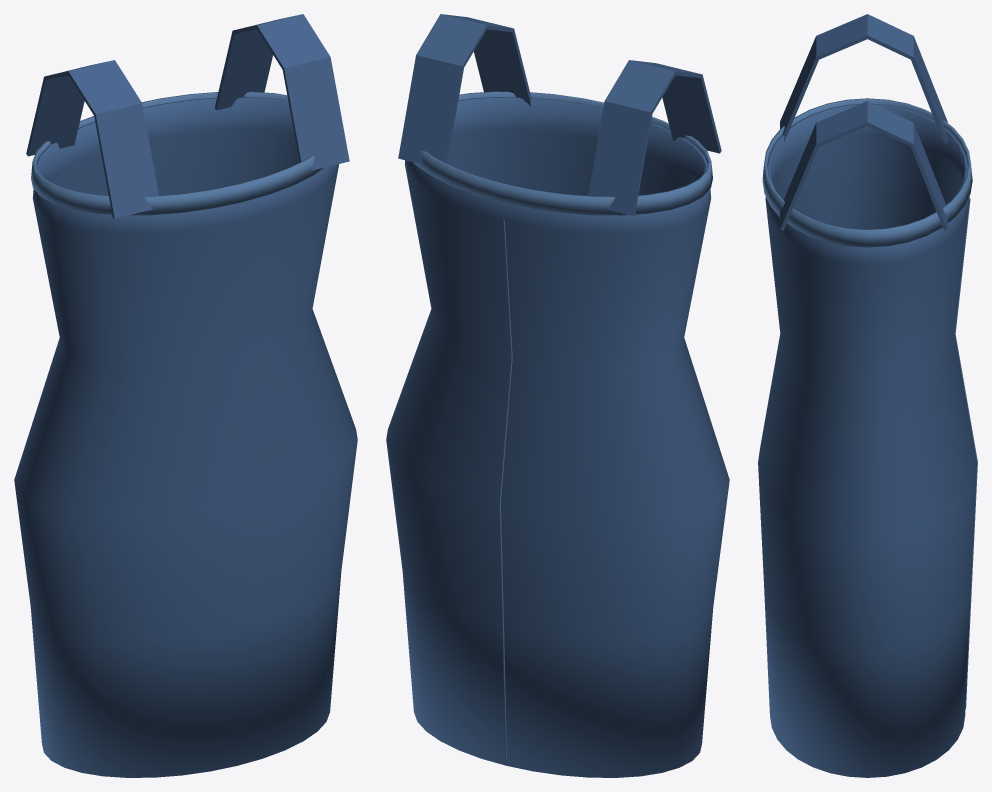
File: dress_sheath.glb
The picture shows the model from 3 angles, left to right: view 1: azimuth 30°, elevation 25°; view 2: azimuth 150°, elevation 25°; view 3: azimuth 270°, elevation 25°; orthographic projection. The views are drawn at different scales.
Visible parts, largest first — view 1: Sheath_Dress_Fitted_Body, Sheath_Dress_Shoulder_Strap, Sheath_Dress_Shoulder_Strap.001, Sheath_Dress_Square_Neck_Edge; view 2: Sheath_Dress_Fitted_Body, Sheath_Dress_Shoulder_Strap, Sheath_Dress_Shoulder_Strap.001, Sheath_Dress_Square_Neck_Edge, Sheath_Dress_Back_Seam; view 3: Sheath_Dress_Fitted_Body, Sheath_Dress_Square_Neck_Edge, Sheath_Dress_Shoulder_Strap.001, Sheath_Dress_Shoulder_Strap, Sheath_Dress_Back_Seam.
Part boxes in pixels (x1,y1,x2,y2): Sheath_Dress_Fitted_Body: (14, 97, 357, 777); Sheath_Dress_Shoulder_Strap: (26, 60, 158, 218); Sheath_Dress_Shoulder_Strap.001: (214, 14, 349, 170); Sheath_Dress_Square_Neck_Edge: (31, 91, 323, 215); Sheath_Dress_Fitted_Body: (386, 97, 729, 777); Sheath_Dress_Shoulder_Strap: (588, 60, 721, 215); Sheath_Dress_Shoulder_Strap.001: (398, 14, 531, 164); Sheath_Dress_Square_Neck_Edge: (413, 91, 712, 215); Sheath_Dress_Back_Seam: (499, 220, 512, 758); Sheath_Dress_Fitted_Body: (758, 104, 976, 777); Sheath_Dress_Square_Neck_Edge: (762, 98, 972, 247); Sheath_Dress_Shoulder_Strap.001: (780, 101, 947, 230); Sheath_Dress_Shoulder_Strap: (780, 14, 947, 143); Sheath_Dress_Back_Seam: (954, 199, 977, 709).
Bounding box in the file's own units: 0.4741 × 0.959 × 0.2951.
